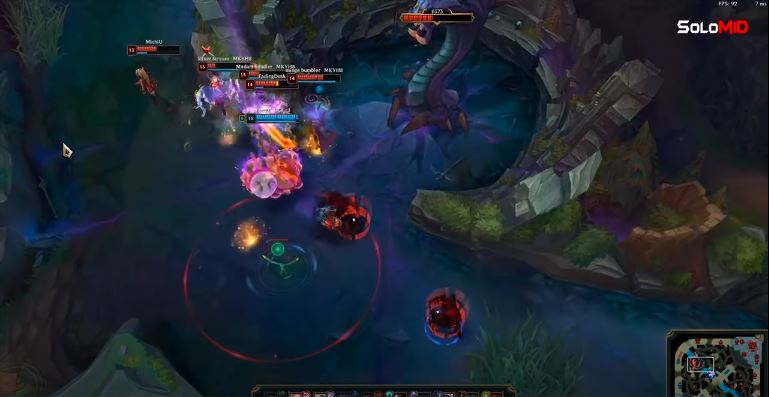bar: (243, 111, 304, 125), (196, 58, 256, 72), (285, 71, 345, 85), (124, 44, 184, 57), (243, 78, 305, 90), (236, 68, 301, 78)
